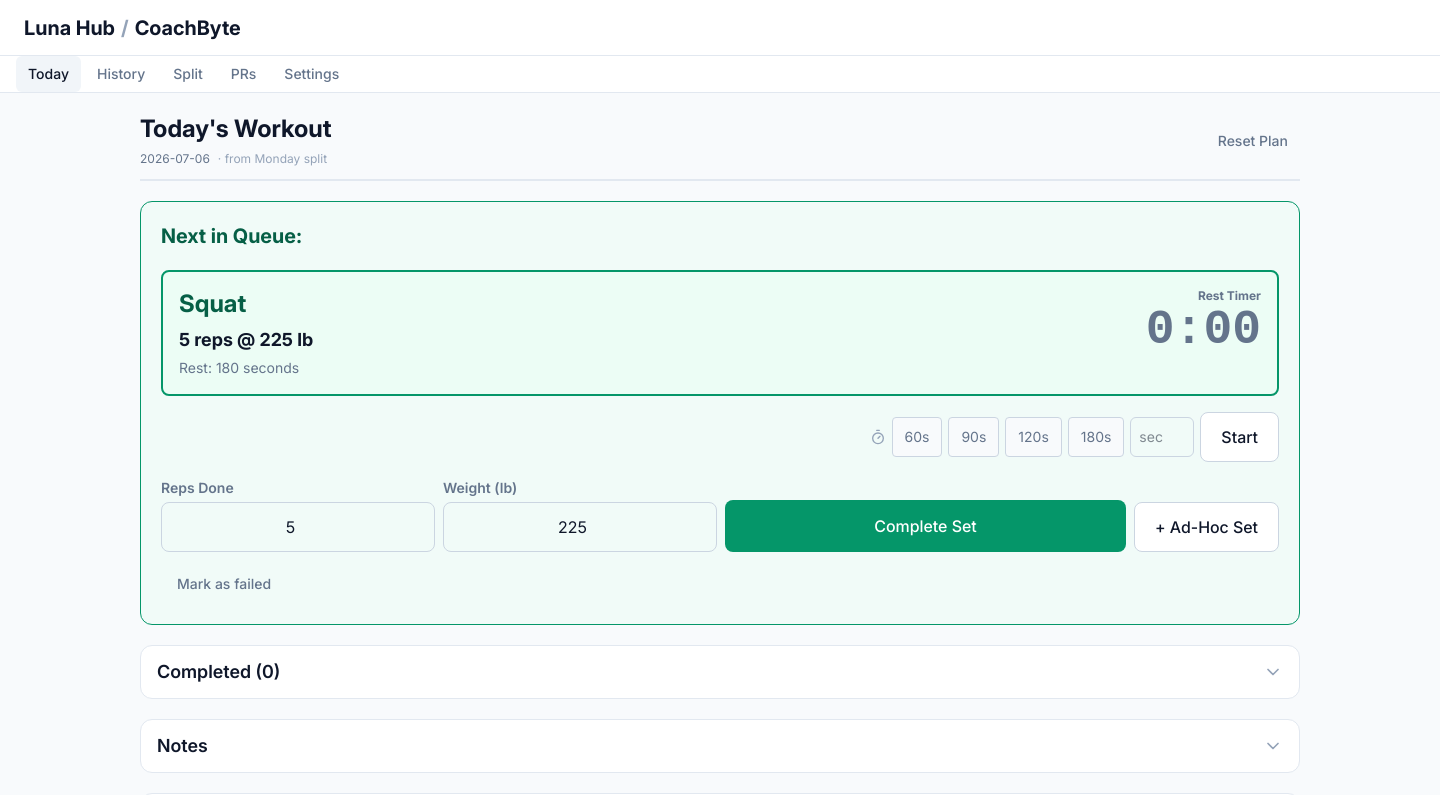
Test: TodayPage — PR detection by completed_set_id (UX audit fix) › shows the undo toast immediately after a successful Complete Set
Expected: the element with test id "next-in-queue" is shown, [140, 201, 1300, 625]
Click the button with test id "complete-set-btn".
click(926, 526)  # box [725, 500, 1126, 552]
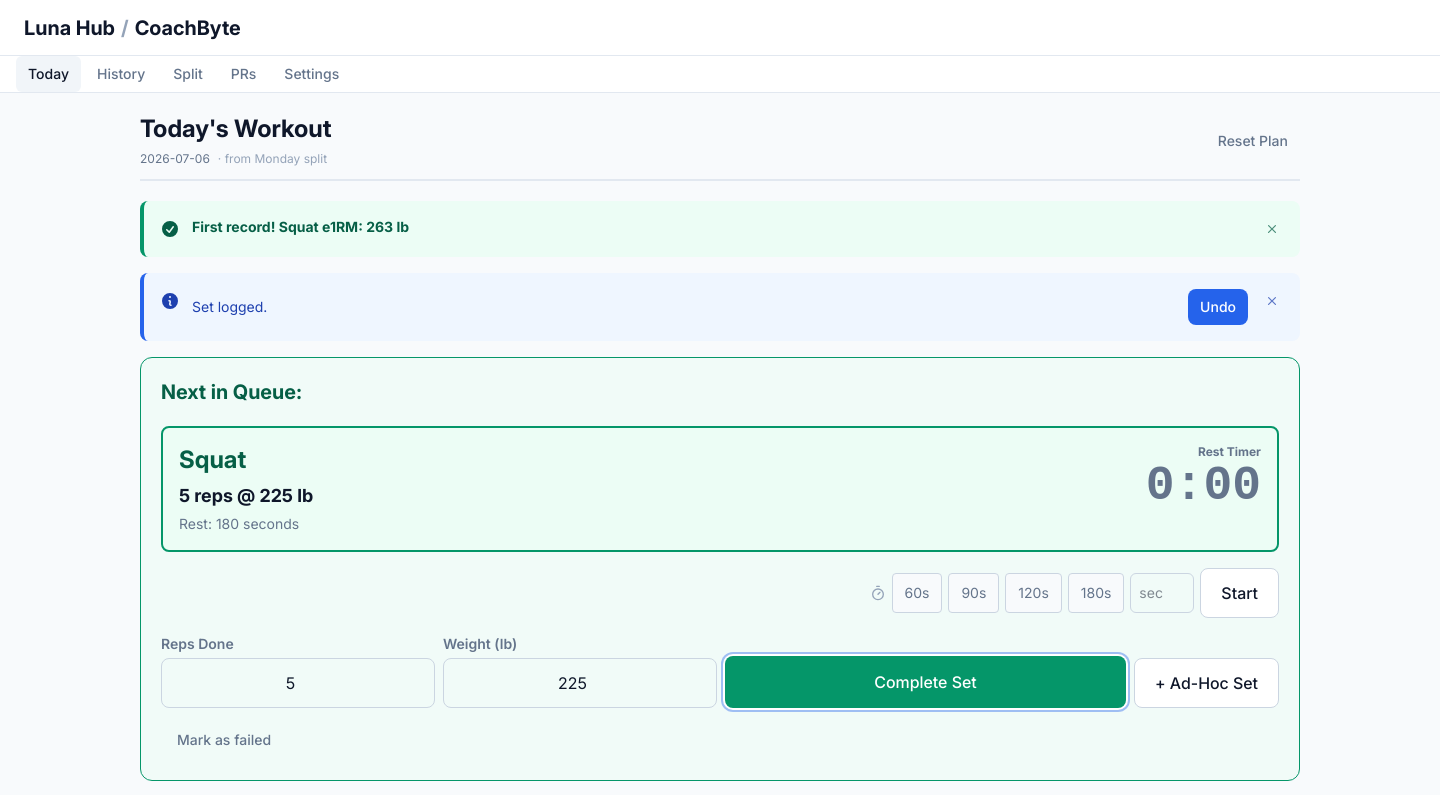
Now the message "Set logged. Undo" is shown, box [140, 273, 1300, 341]
Now the button with test id "undo-set-btn" is shown, box [1188, 289, 1248, 325]
